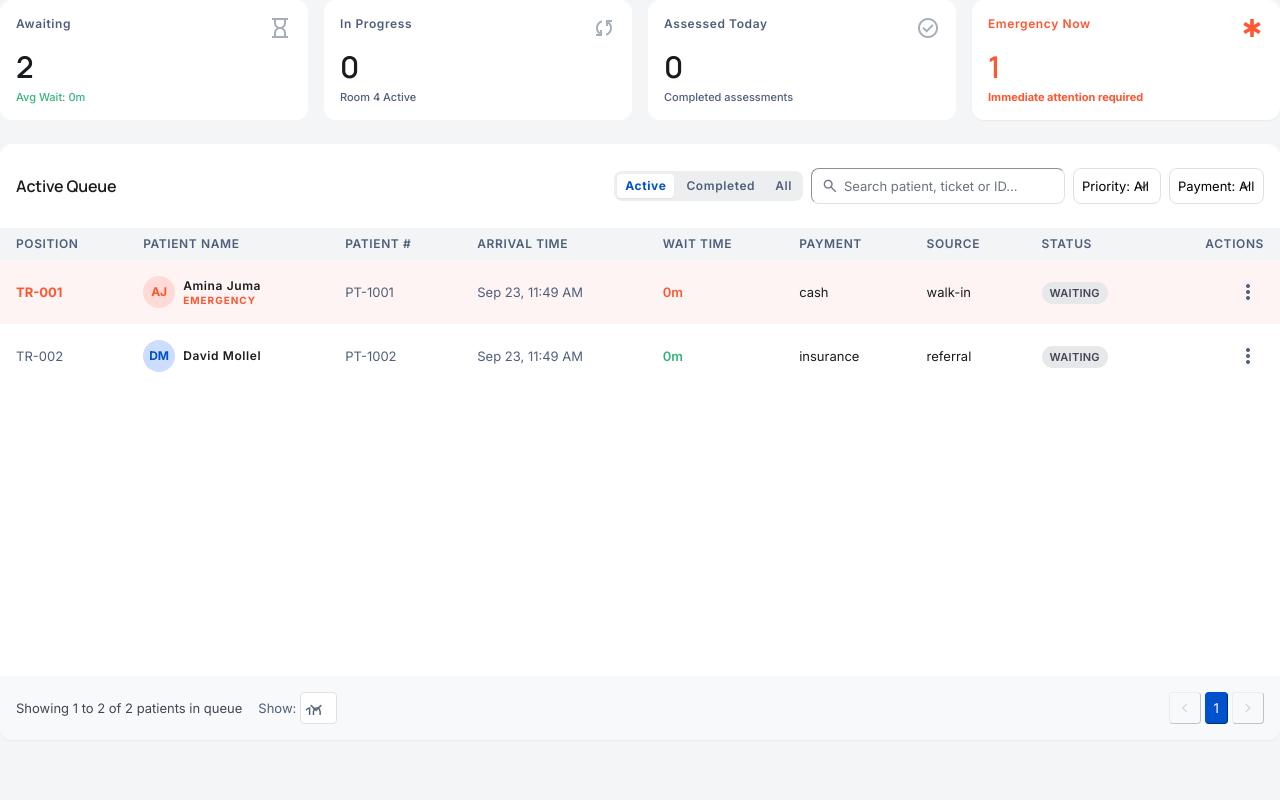
Scenario: TriageQueuePage › switches between active and completed queue tabs
Check: the text "Amina Juma" is shown, box [183, 278, 261, 294]
Check: the text "David Mollel" is shown, box [183, 348, 261, 364]
Click the button "Completed": (721, 186) [678, 174, 763, 198]
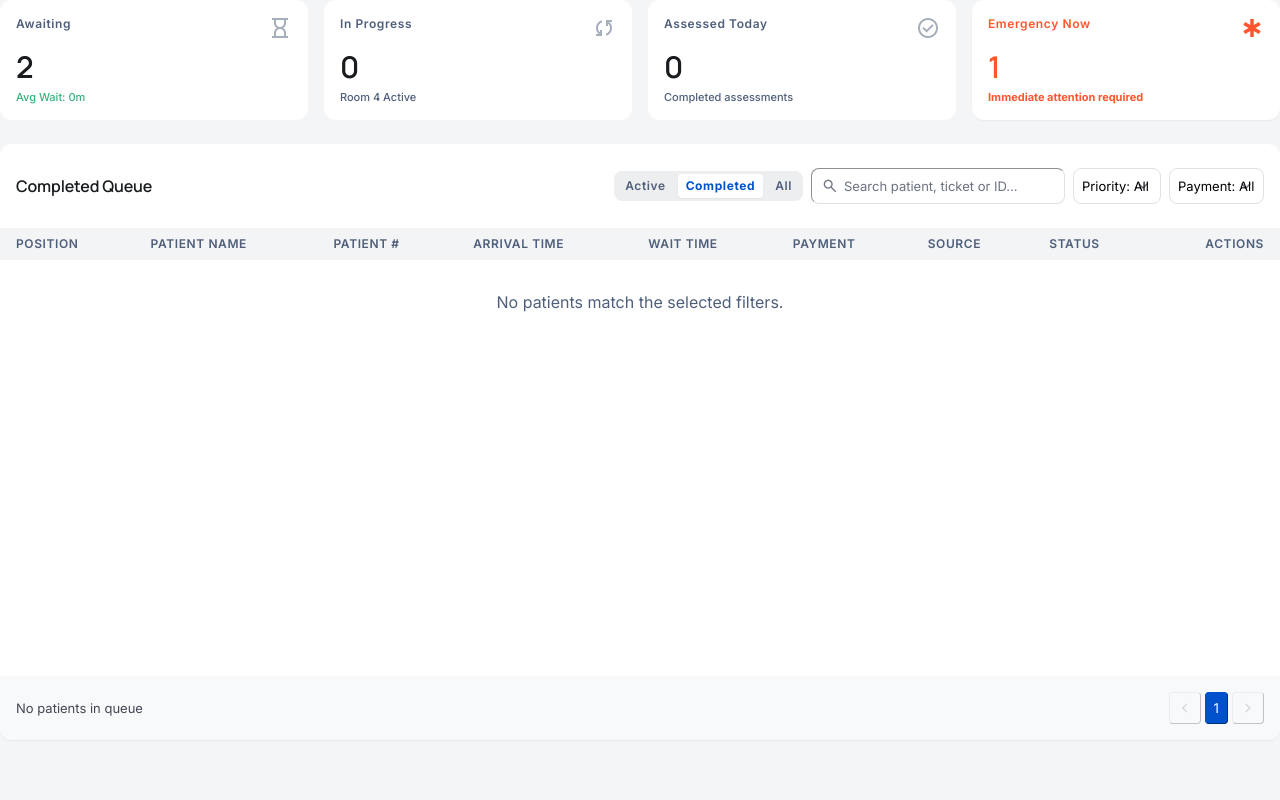
Check: the heading "Completed Queue" is shown, box [16, 174, 152, 198]
